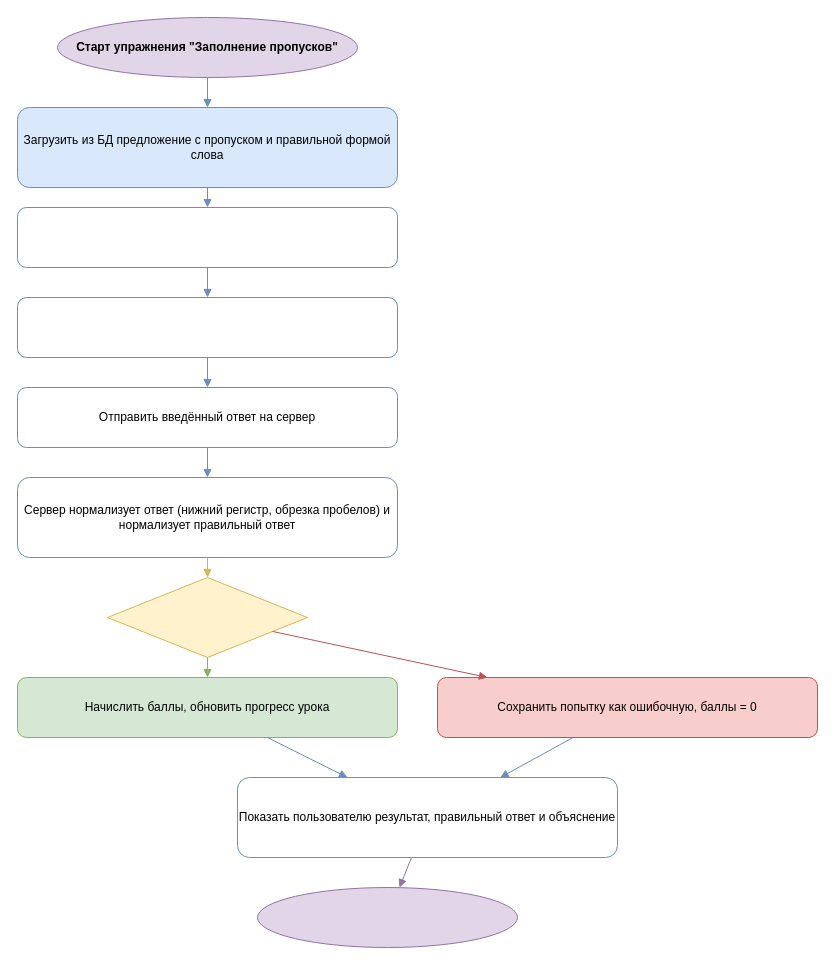
The diagram is 835 pixels wide and 965 high, and some of its shapes have lost their labels. Each missing label, with the centre of its shape:
Ответ совпадает с правильным?: pixel 207 617
Отобразить предложение и поле для ввода ответа: pixel 207 237
Пользователь вводит слово / форму глагола: pixel 207 327
Упражнение завершено: pixel 387 917
